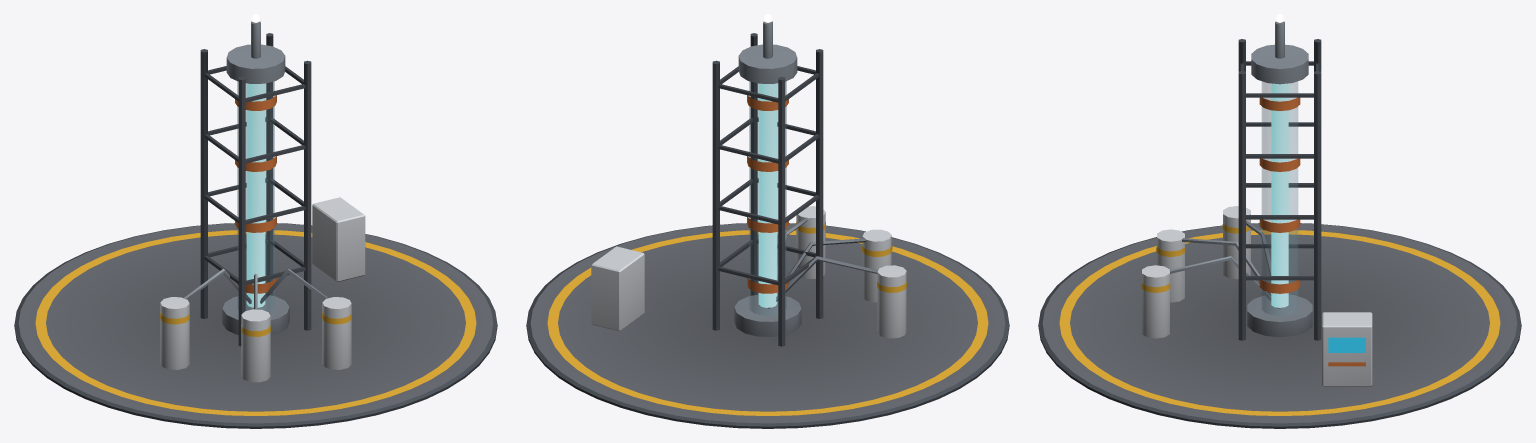
The model's file is graphene_reactor.glb.
3 views of the same model, side by side, from view 1: azimuth 30°, elevation 25°; view 2: azimuth 150°, elevation 25°; view 3: azimuth 270°, elevation 25° (orthographic).
Visible parts, largest first — view 1: Base, Lights; view 2: Base, Lights; view 3: Base, Lights.
Boxes of the visible parts, left/top/right/bottom form: Base: left=14, top=21, right=497, bottom=428; Lights: left=246, top=14, right=265, bottom=307; Base: left=526, top=21, right=1009, bottom=428; Lights: left=758, top=14, right=777, bottom=307; Base: left=1038, top=21, right=1521, bottom=428; Lights: left=1271, top=14, right=1288, bottom=307.
Size of the model in its own units: 11.5 by 8.22 by 11.5.
